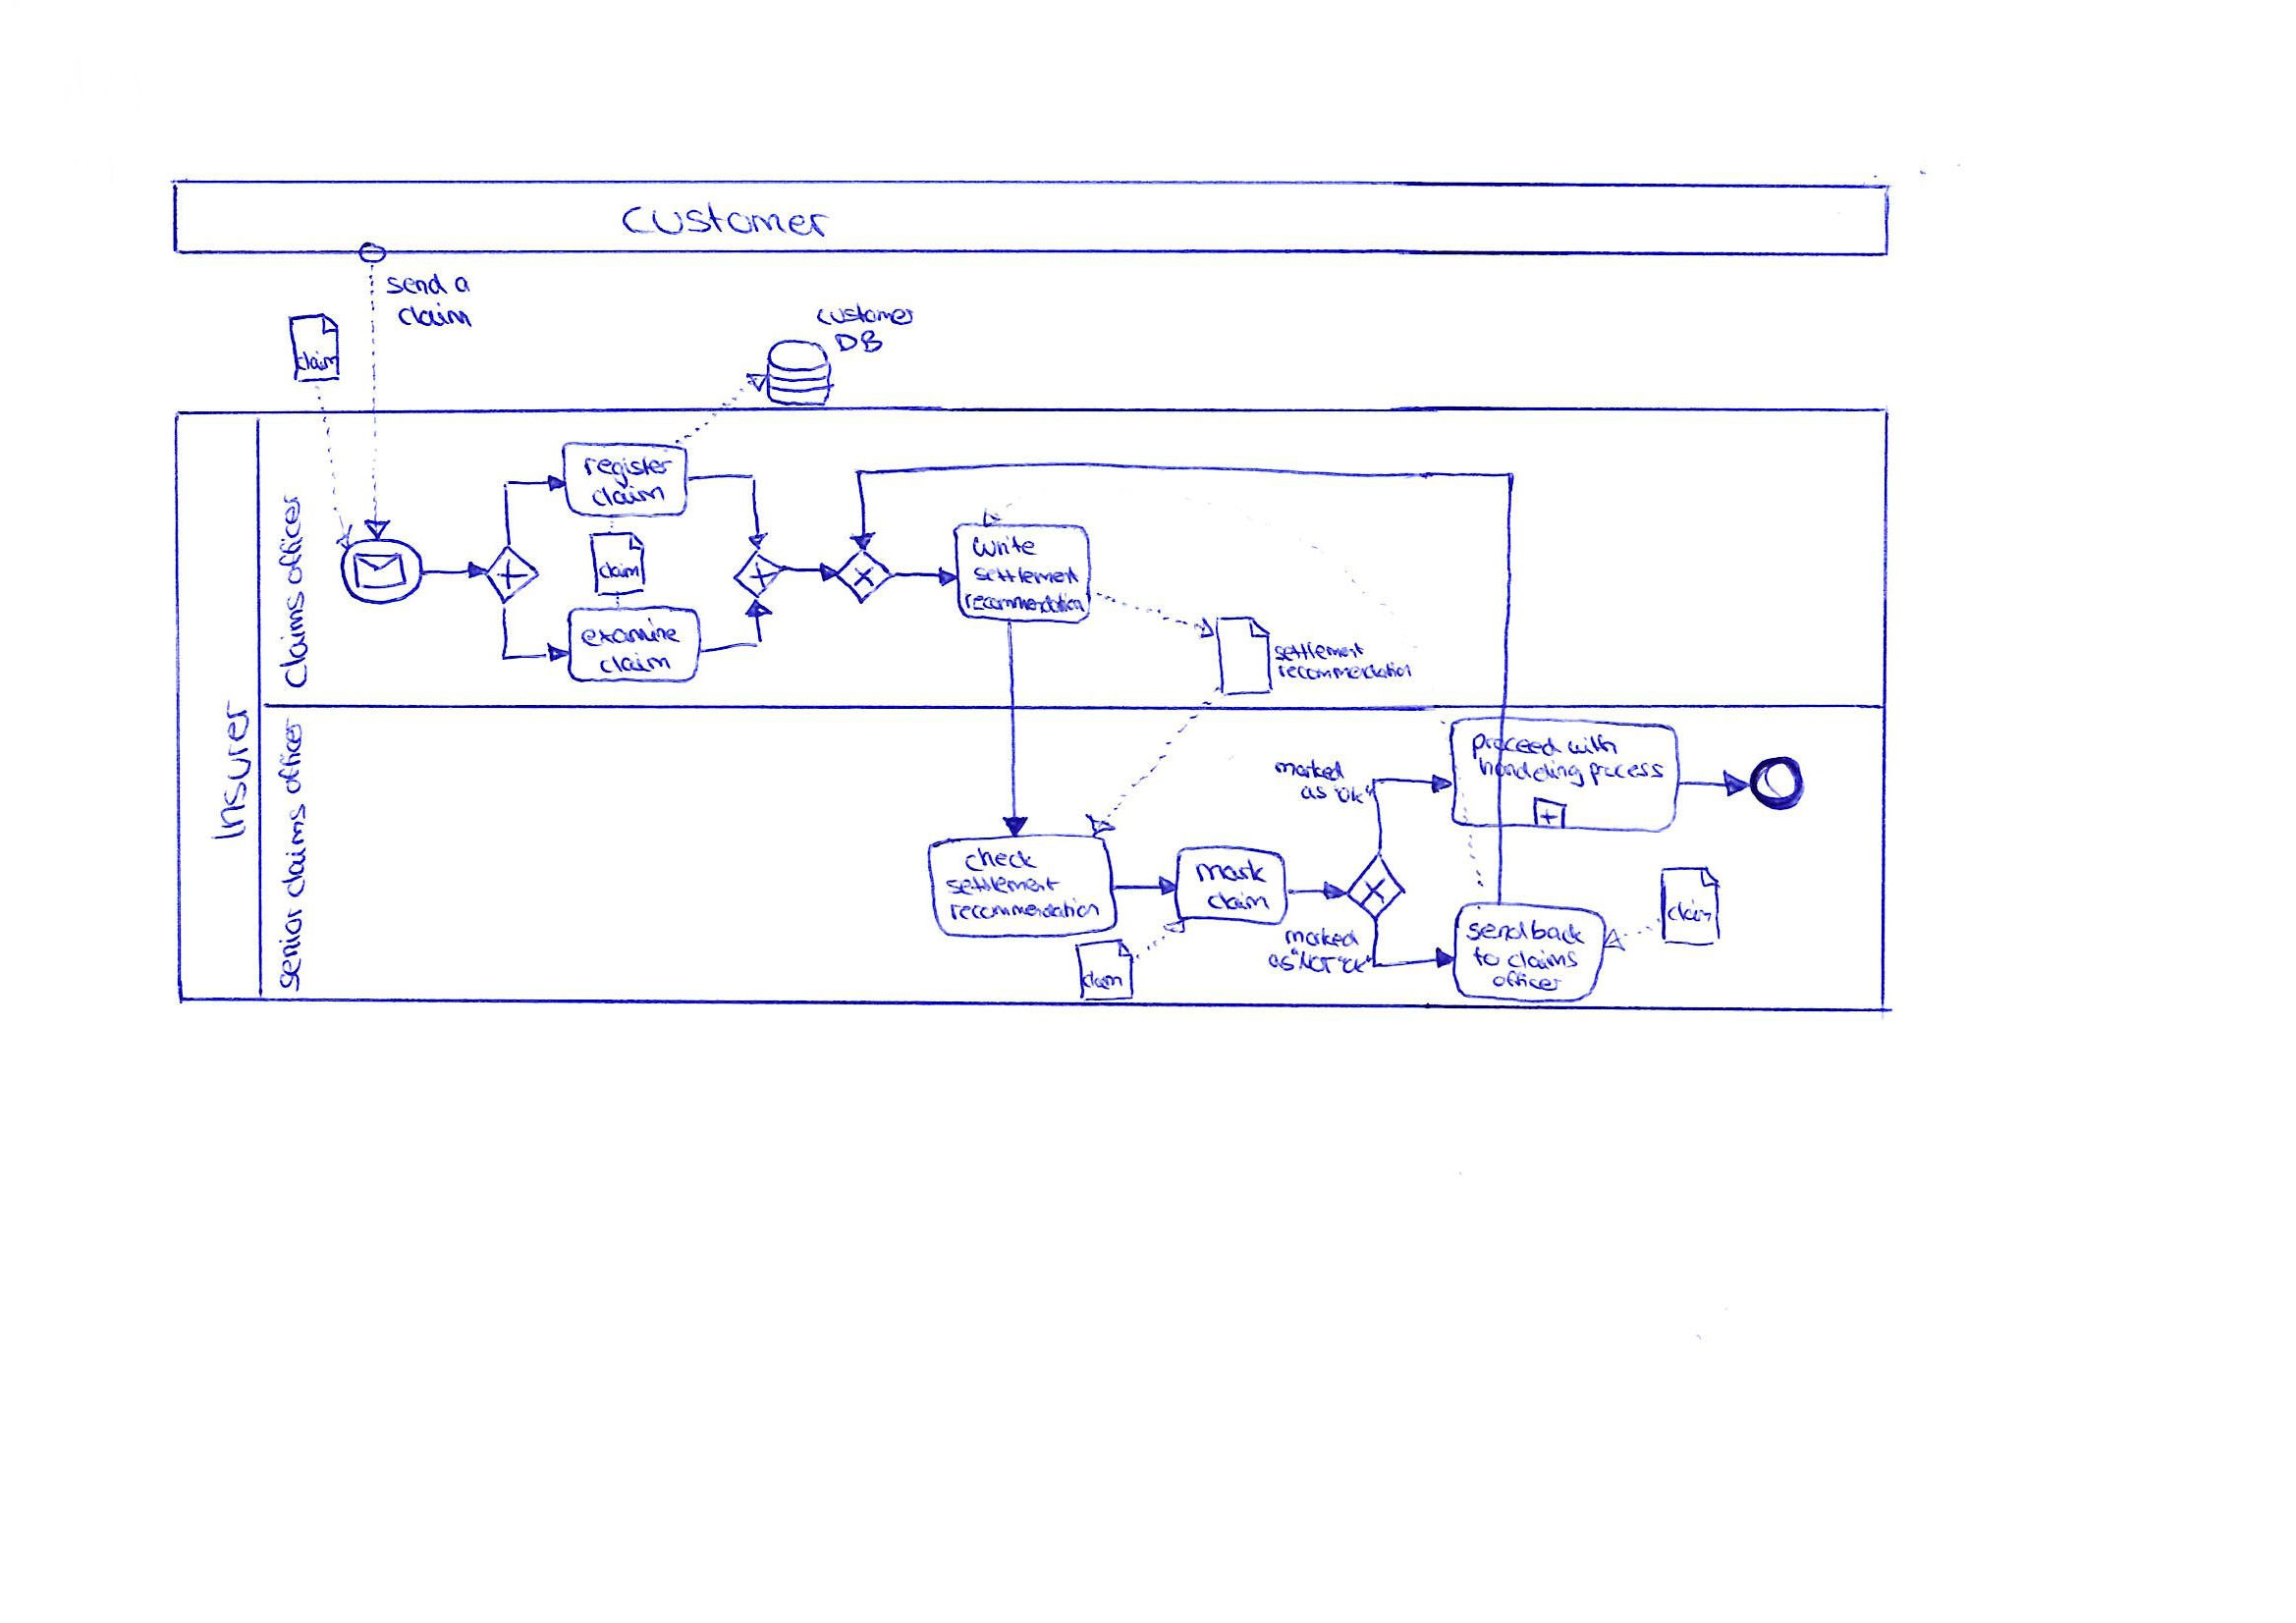DB: (829, 325, 889, 360)
Insurer: (200, 692, 256, 850)
NOT: (1284, 945, 1342, 980)
OK: (1330, 952, 1379, 978)
Ok: (1326, 780, 1377, 808)
a: (448, 272, 478, 299)
as: (1261, 947, 1300, 977), (1295, 782, 1332, 804)
back: (1525, 913, 1592, 950)
check: (959, 843, 1043, 876)
claim: (390, 297, 478, 332), (592, 648, 676, 680), (587, 481, 671, 511), (1202, 887, 1279, 915), (1664, 898, 1716, 927), (292, 346, 344, 376), (1079, 966, 1128, 994), (594, 559, 645, 585)
claims: (272, 587, 313, 697), (272, 799, 314, 903), (1502, 945, 1585, 975)
customer: (615, 195, 838, 246), (810, 297, 921, 332)
examine: (573, 613, 687, 652)
handeling: (1474, 754, 1588, 794)
mark: (1189, 854, 1270, 887)
marked: (1268, 752, 1351, 787), (1279, 922, 1365, 952)
officer: (272, 487, 309, 590), (272, 711, 307, 801), (1486, 964, 1569, 996)
proceed: (1465, 727, 1567, 764)
process: (1585, 757, 1669, 790)
recommendation: (943, 894, 1105, 926), (959, 587, 1091, 620), (1272, 657, 1418, 685)
register: (578, 451, 678, 495)
send: (379, 269, 453, 302), (1460, 915, 1534, 947)
senior: (271, 901, 309, 998)
settlement: (940, 871, 1066, 899), (968, 562, 1086, 590), (1268, 636, 1368, 666)
to: (1467, 941, 1507, 973)
with: (1562, 729, 1623, 761)
write: (964, 529, 1043, 562)
